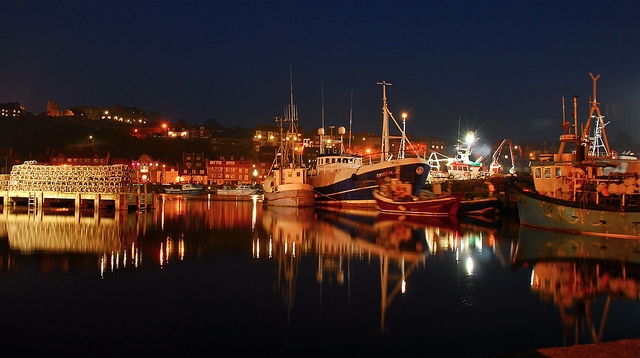boat: (207, 168, 256, 198), (166, 177, 202, 194)
fishing_boat: (514, 69, 631, 239), (314, 92, 424, 201), (263, 88, 314, 206), (376, 179, 454, 215)
